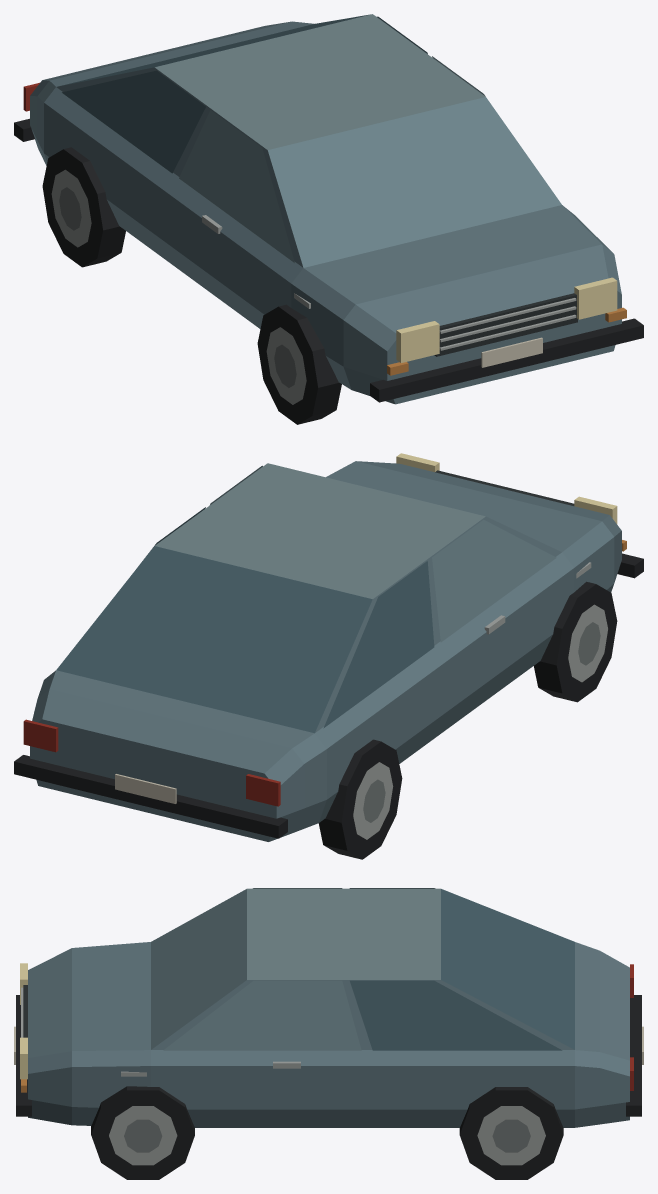
Rendered from car_1.glb.
3 views of the same model, one above another, from view 1: azimuth 30°, elevation 25°; view 2: azimuth 150°, elevation 25°; view 3: azimuth 270°, elevation 25° (orthographic). The views are drawn at different scales.
Visible parts, largest first — view 1: Body; view 2: Body; view 3: Body.
Boxes of the visible parts, x1,y1,x2,y2 form: Body: [14, 14, 643, 424]; Body: [14, 453, 643, 859]; Body: [14, 888, 643, 1179].
Bounding box in the file's own units: 0.1504 × 0.101 × 0.315.
